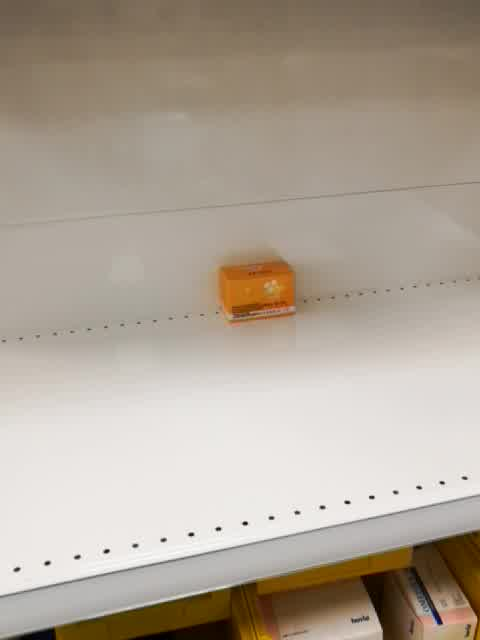jasminetea: (216, 259, 298, 324)
